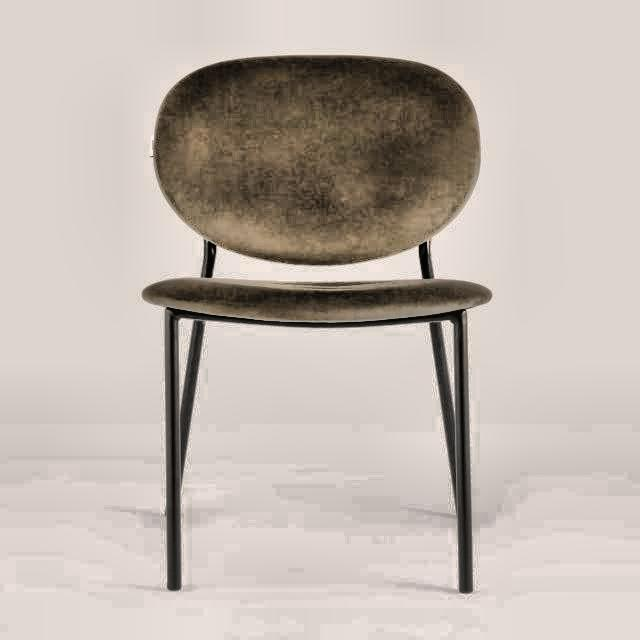cadeira: (137, 46, 497, 598)
